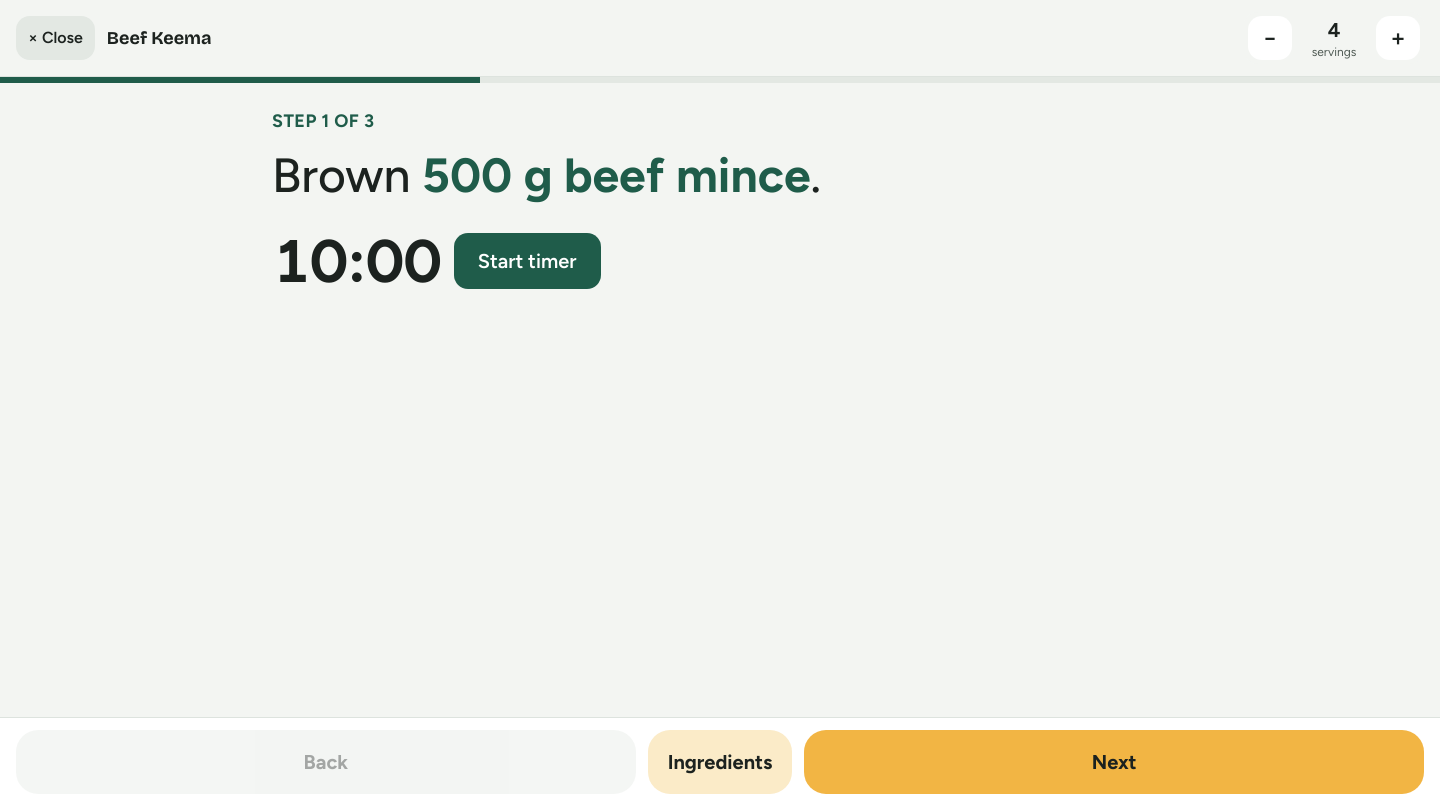
Test: CookScreen › should keep the servings when changing step and show free text unscaled
What coordinates should you click on to do the following:
click the button named "Fewer servings"
I would click on:
 (1270, 38)
Its box is [1248, 16, 1292, 60].
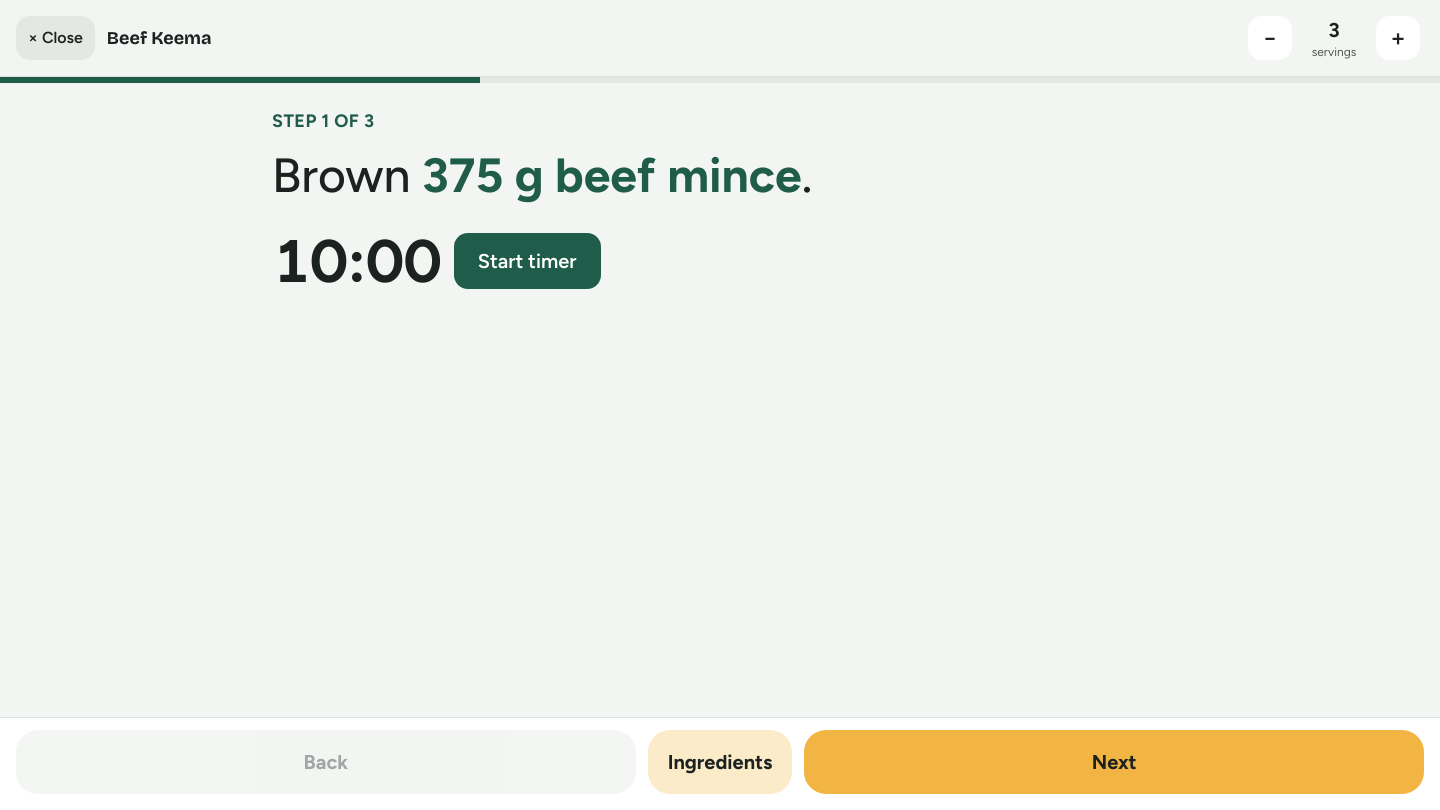
What coordinates should you click on to do the following:
click the button named "Fewer servings"
I would click on:
 (1270, 38)
Its box is [1248, 16, 1292, 60].
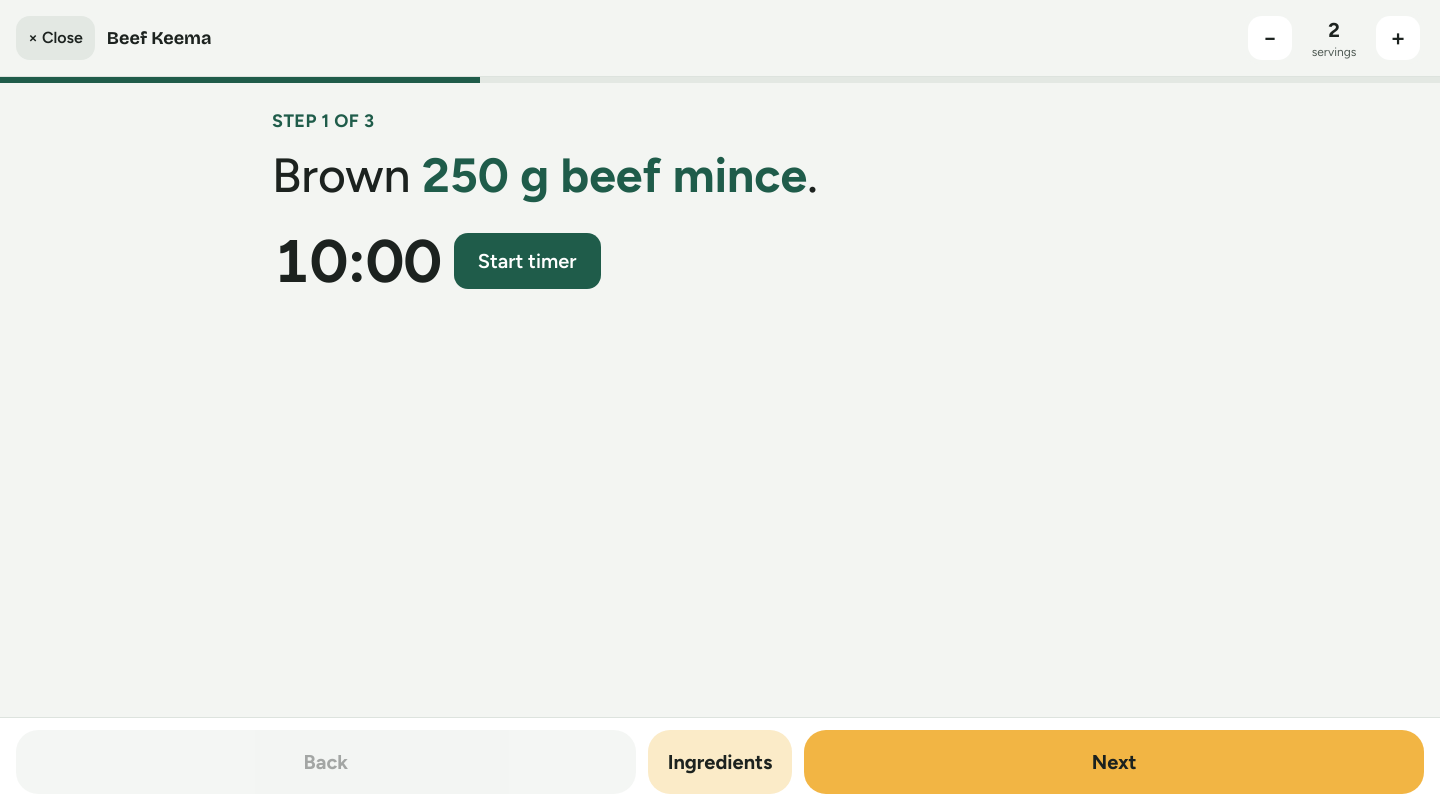
What coordinates should you click on to do the following:
click the button "Next"
I would click on:
 (1114, 762)
Its box is [804, 730, 1424, 794].
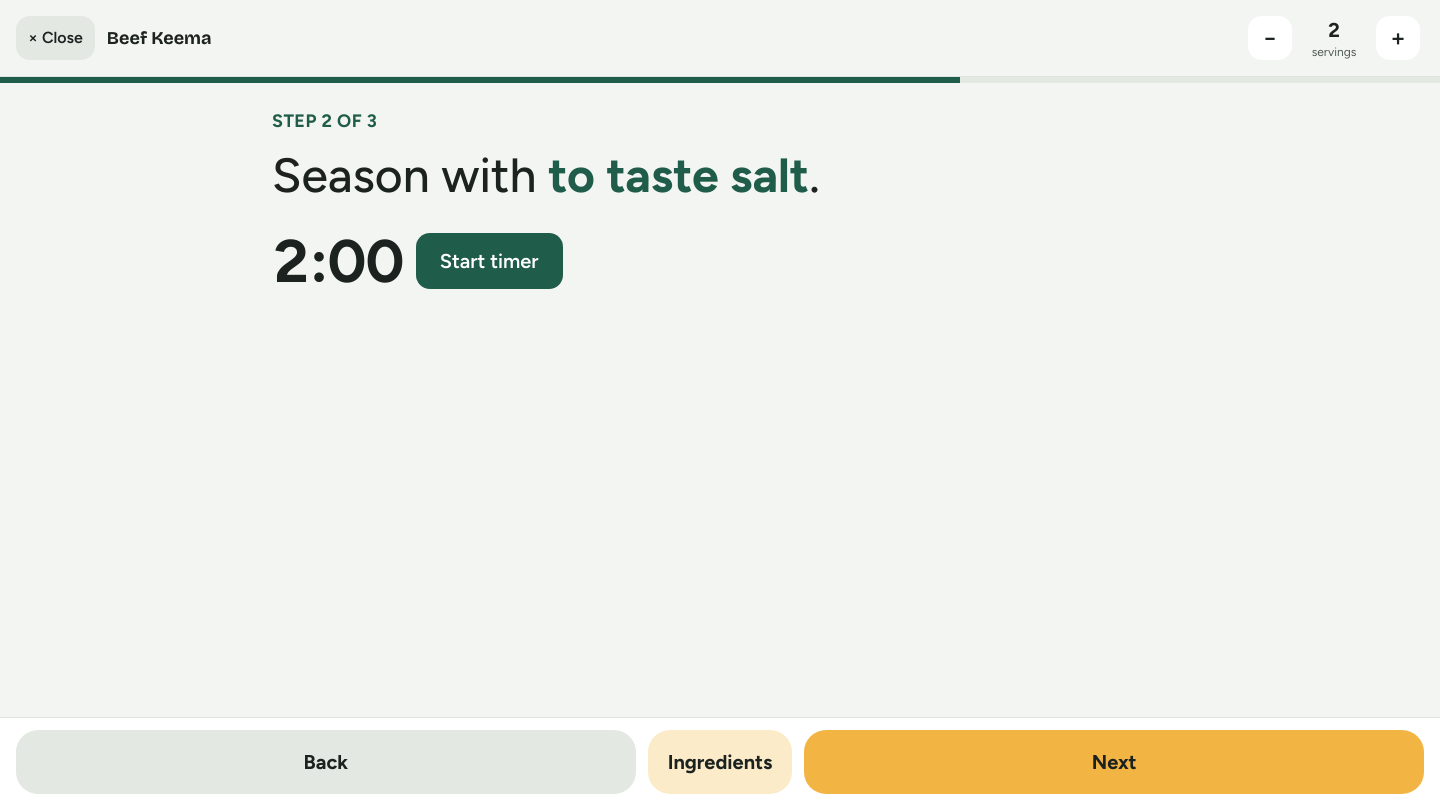
expect the text with test id "servings-value" reads "2": met, box [1328, 18, 1340, 42]
expect the element with test id "step-text" reads "Season with to taste salt.": met, box [272, 146, 820, 204]
